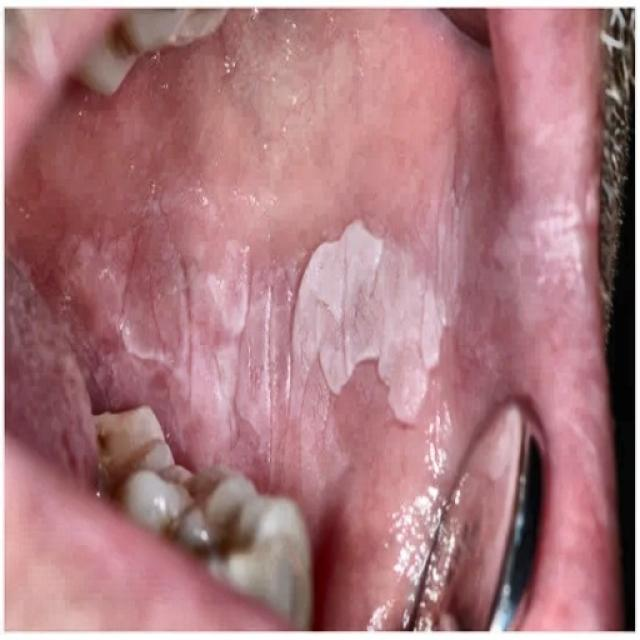leukoplakia-detection: (5, 151, 592, 528)
processing_area: (0, 6, 570, 628)
